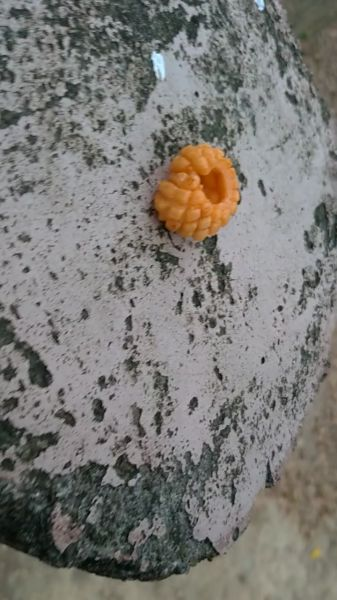eggs: (149, 135, 243, 243)
